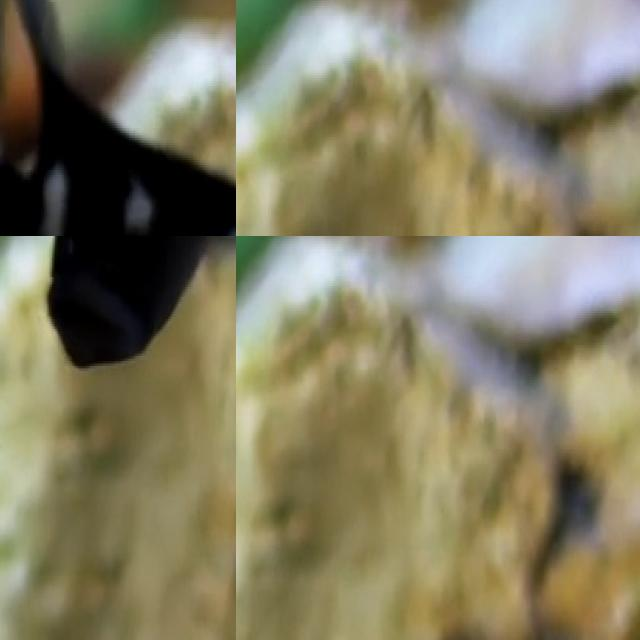fish: (0, 0, 236, 236), (589, 0, 640, 122)
